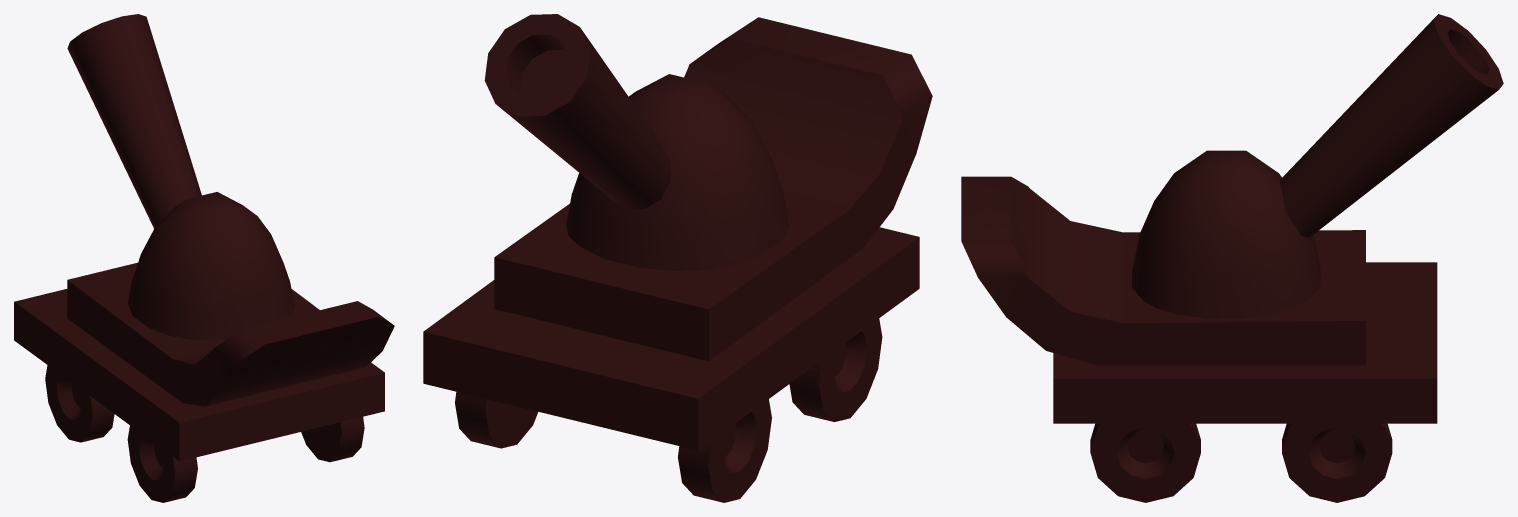
File: TrainGun.fbx
3 views of the same model, side by side, from view 1: azimuth 30°, elevation 25°; view 2: azimuth 150°, elevation 25°; view 3: azimuth 270°, elevation 25° (orthographic). The views are drawn at different scales.
Parts seen in each view (by area): view 1: TrainGun, Gun; view 2: TrainGun, Gun; view 3: TrainGun, Gun.
Boxes of the visible parts, <box> form: TrainGun: <box>14,262,394,502</box>; Gun: <box>67,14,294,340</box>; TrainGun: <box>423,17,932,502</box>; Gun: <box>484,14,789,271</box>; TrainGun: <box>961,176,1437,502</box>; Gun: <box>1132,14,1503,318</box>.
Size of the model in its own units: 76.25 by 131 by 150.
